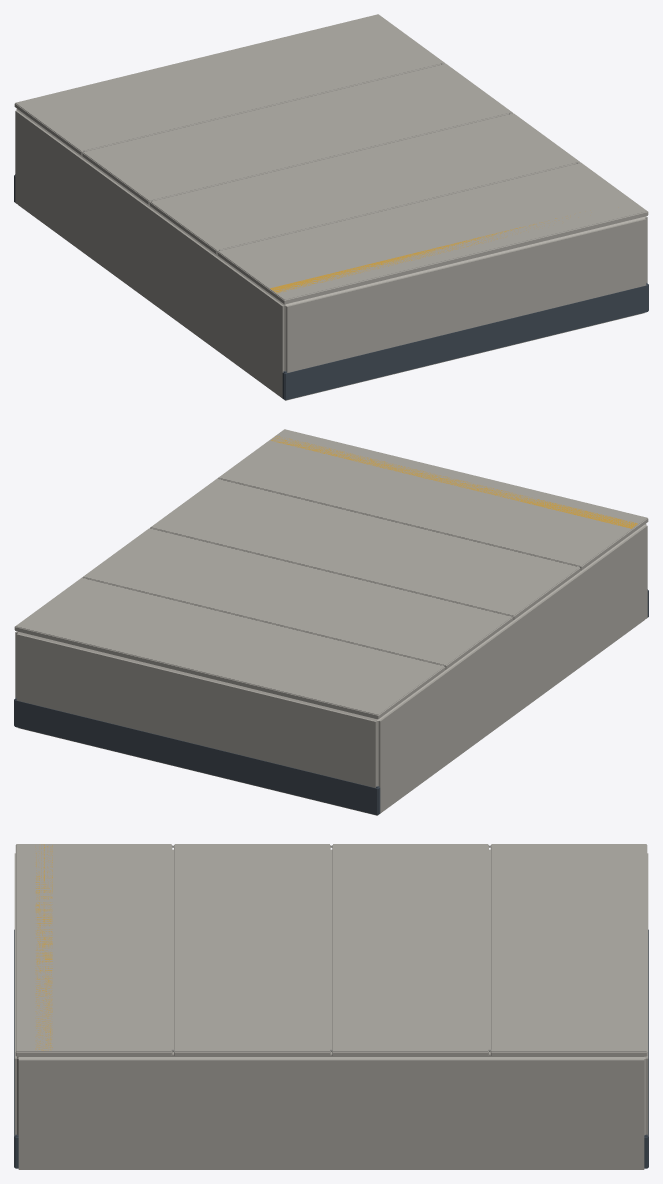
The model's file is SM_StationPlatformPanel.glb.
3 views of the same model, one above another, from view 1: azimuth 30°, elevation 25°; view 2: azimuth 150°, elevation 25°; view 3: azimuth 270°, elevation 25° (orthographic). The views are drawn at different scales.
Parts seen in each view (by area): view 1: VC_ENVKIT_SM_StationPlatformPanel_ConcreteCore, VC_ENVKIT_SM_StationPlatformPanel_DeckSlab_0, VC_ENVKIT_SM_StationPlatformPanel_DeckSlab_3, VC_ENVKIT_SM_StationPlatformPanel_DeckSlab_2, VC_ENVKIT_SM_StationPlatformPanel_DeckSlab_1, VC_ENVKIT_SM_StationPlatformPanel_Fascia_-1, VC_ENVKIT_SM_StationPlatformPanel_EdgeStripe; view 2: VC_ENVKIT_SM_StationPlatformPanel_ConcreteCore, VC_ENVKIT_SM_StationPlatformPanel_DeckSlab_3, VC_ENVKIT_SM_StationPlatformPanel_DeckSlab_1, VC_ENVKIT_SM_StationPlatformPanel_DeckSlab_2, VC_ENVKIT_SM_StationPlatformPanel_DeckSlab_0, VC_ENVKIT_SM_StationPlatformPanel_Fascia_1, VC_ENVKIT_SM_StationPlatformPanel_EdgeStripe; view 3: VC_ENVKIT_SM_StationPlatformPanel_ConcreteCore, VC_ENVKIT_SM_StationPlatformPanel_DeckSlab_0, VC_ENVKIT_SM_StationPlatformPanel_DeckSlab_3, VC_ENVKIT_SM_StationPlatformPanel_DeckSlab_1, VC_ENVKIT_SM_StationPlatformPanel_DeckSlab_2, VC_ENVKIT_SM_StationPlatformPanel_EdgeStripe.
Boxes of the visible parts, bbox=[...] form: VC_ENVKIT_SM_StationPlatformPanel_ConcreteCore: bbox=[15, 109, 647, 400]; VC_ENVKIT_SM_StationPlatformPanel_DeckSlab_0: bbox=[217, 162, 648, 304]; VC_ENVKIT_SM_StationPlatformPanel_DeckSlab_3: bbox=[14, 14, 445, 155]; VC_ENVKIT_SM_StationPlatformPanel_DeckSlab_2: bbox=[82, 63, 512, 205]; VC_ENVKIT_SM_StationPlatformPanel_DeckSlab_1: bbox=[150, 113, 580, 254]; VC_ENVKIT_SM_StationPlatformPanel_Fascia_-1: bbox=[282, 283, 648, 400]; VC_ENVKIT_SM_StationPlatformPanel_EdgeStripe: bbox=[270, 218, 566, 293]; VC_ENVKIT_SM_StationPlatformPanel_ConcreteCore: bbox=[15, 524, 647, 815]; VC_ENVKIT_SM_StationPlatformPanel_DeckSlab_3: bbox=[14, 577, 445, 719]; VC_ENVKIT_SM_StationPlatformPanel_DeckSlab_1: bbox=[150, 478, 580, 620]; VC_ENVKIT_SM_StationPlatformPanel_DeckSlab_2: bbox=[82, 528, 512, 669]; VC_ENVKIT_SM_StationPlatformPanel_DeckSlab_0: bbox=[217, 429, 648, 570]; VC_ENVKIT_SM_StationPlatformPanel_Fascia_1: bbox=[14, 698, 380, 815]; VC_ENVKIT_SM_StationPlatformPanel_EdgeStripe: bbox=[271, 436, 637, 528]; VC_ENVKIT_SM_StationPlatformPanel_ConcreteCore: bbox=[14, 849, 648, 1169]; VC_ENVKIT_SM_StationPlatformPanel_DeckSlab_0: bbox=[15, 844, 172, 1056]; VC_ENVKIT_SM_StationPlatformPanel_DeckSlab_3: bbox=[490, 844, 647, 1056]; VC_ENVKIT_SM_StationPlatformPanel_DeckSlab_1: bbox=[174, 844, 330, 1056]; VC_ENVKIT_SM_StationPlatformPanel_DeckSlab_2: bbox=[332, 844, 488, 1056]; VC_ENVKIT_SM_StationPlatformPanel_EdgeStripe: bbox=[35, 844, 52, 1050].
Size of the model in its own units: 2.99 by 0.8 by 3.85.
